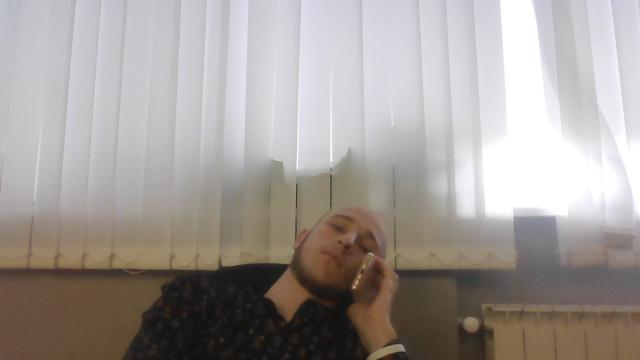Phone: (349, 250, 397, 314)
